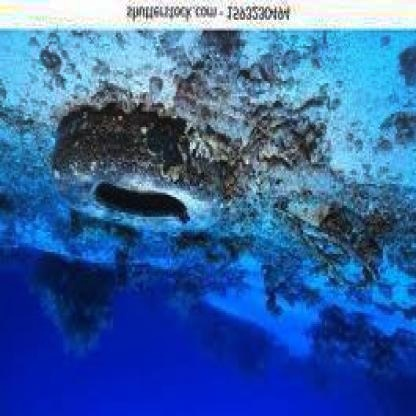tire: (38, 103, 229, 243)
